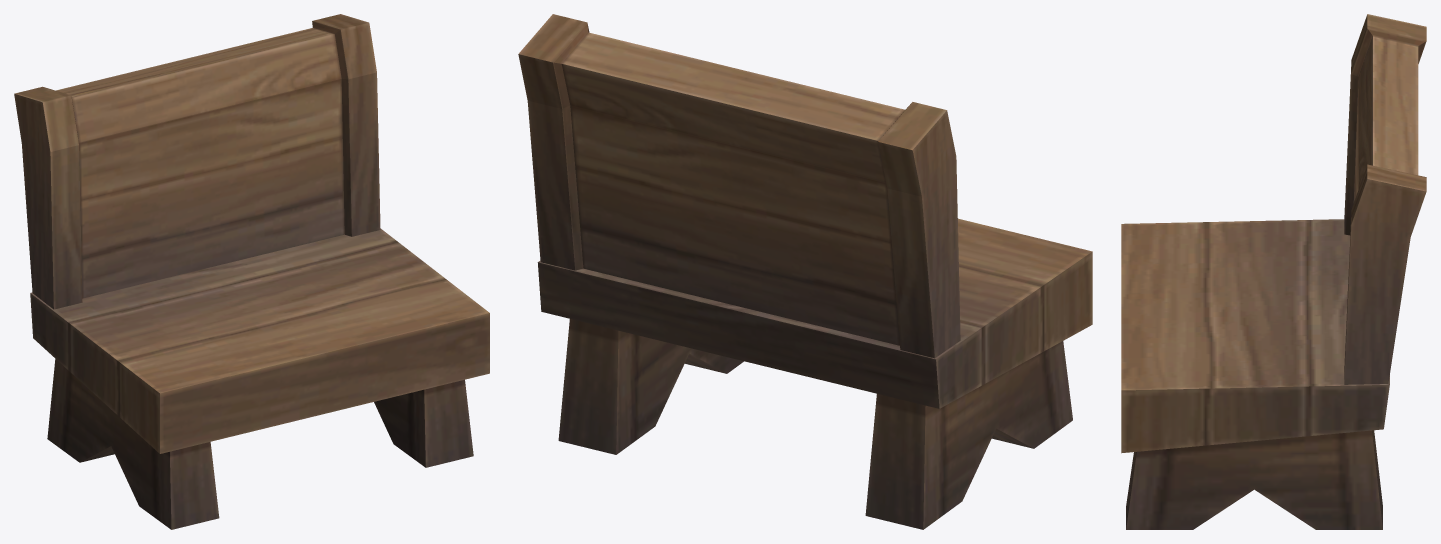
The model's file is D41_BENCH_T.obj.
3 views of the same model, side by side, from view 1: azimuth 30°, elevation 25°; view 2: azimuth 150°, elevation 25°; view 3: azimuth 270°, elevation 25° (orthographic). The views are drawn at different scales.
Visible parts, largest first — view 1: D41_BENCH_T; view 2: D41_BENCH_T; view 3: D41_BENCH_T.
Boxes of the visible parts, left/top/right/bottom form: D41_BENCH_T: left=14, top=14, right=489, bottom=529; D41_BENCH_T: left=518, top=14, right=1092, bottom=529; D41_BENCH_T: left=1121, top=14, right=1426, bottom=529.
Bounding box in the file's own units: 1 × 1 × 0.7744.
Materials: 1 (1 with a texture image).
